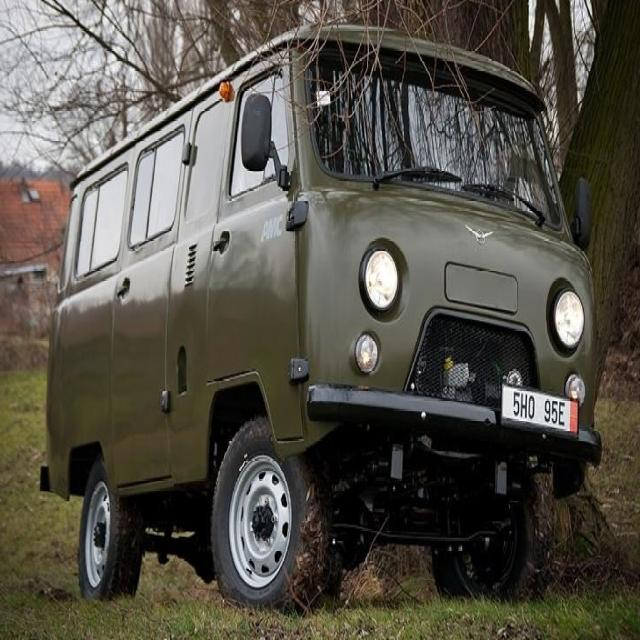CAR: (36, 21, 602, 609)
